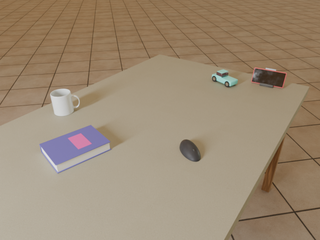book: (39, 125, 111, 173)
cup: (50, 89, 80, 116)
mouse: (180, 140, 200, 162)
phone: (251, 68, 287, 88)
toy_car: (212, 70, 238, 87)
